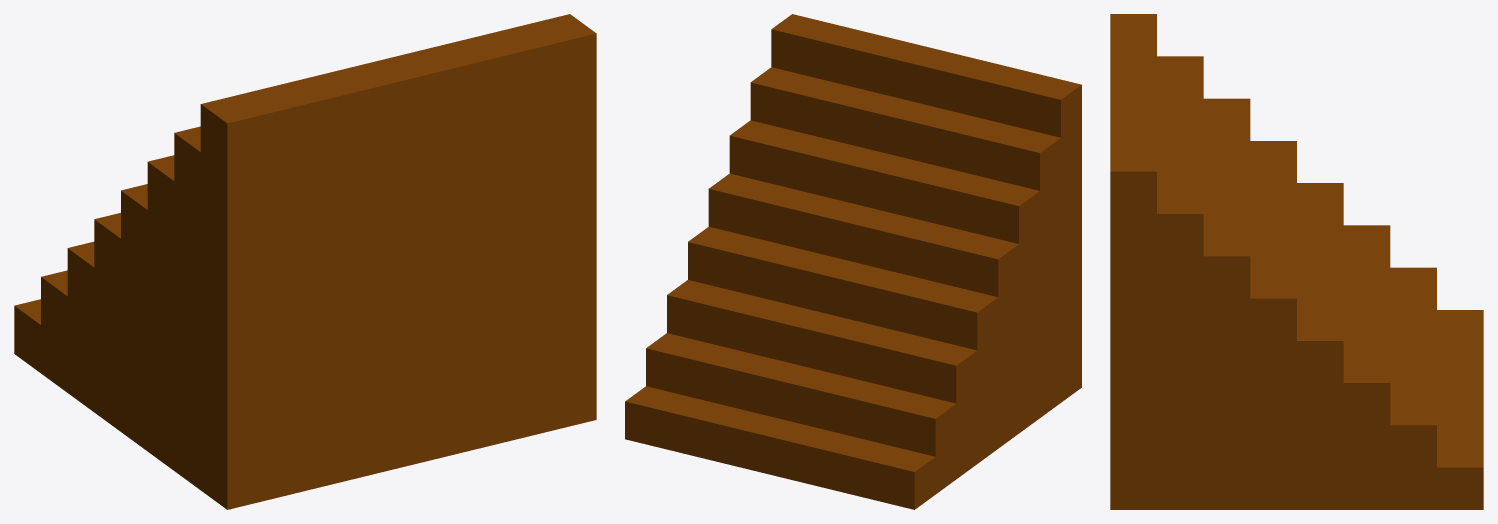
Rendered from Stairs.gltf.
The picture shows the model from 3 angles, left to right: view 1: azimuth 30°, elevation 25°; view 2: azimuth 150°, elevation 25°; view 3: azimuth 270°, elevation 25°; orthographic projection. The views are drawn at different scales.
Visible parts, largest first — view 1: cuboid; view 2: cuboid; view 3: cuboid.
Part boxes in pixels (x1=…): cuboid: x1=14, y1=14, x2=596, y2=509; cuboid: x1=625, y1=14, x2=1081, y2=509; cuboid: x1=1110, y1=14, x2=1483, y2=509.
Size of the model in its own units: 1 by 1 by 1.
Materials: 1 (1 with a texture image).
